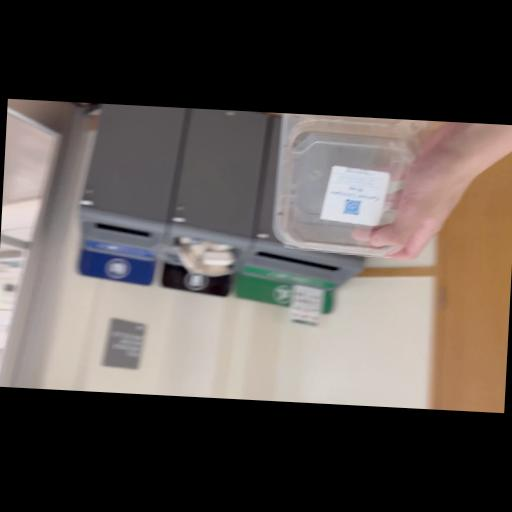small_plastic_container: (266, 113, 434, 265)
